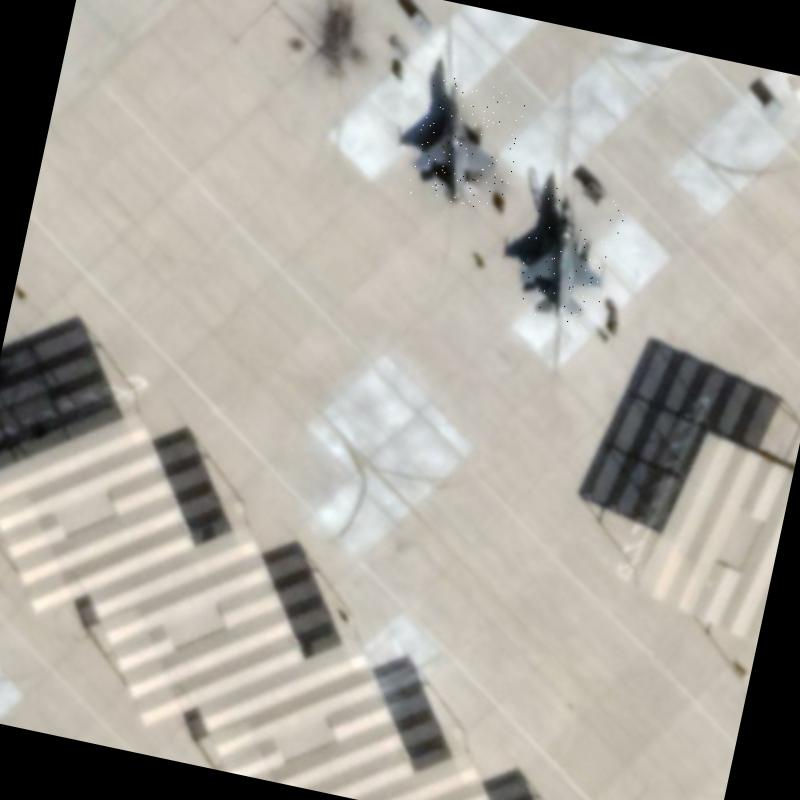A5: (511, 184, 629, 331), (406, 74, 528, 213)
